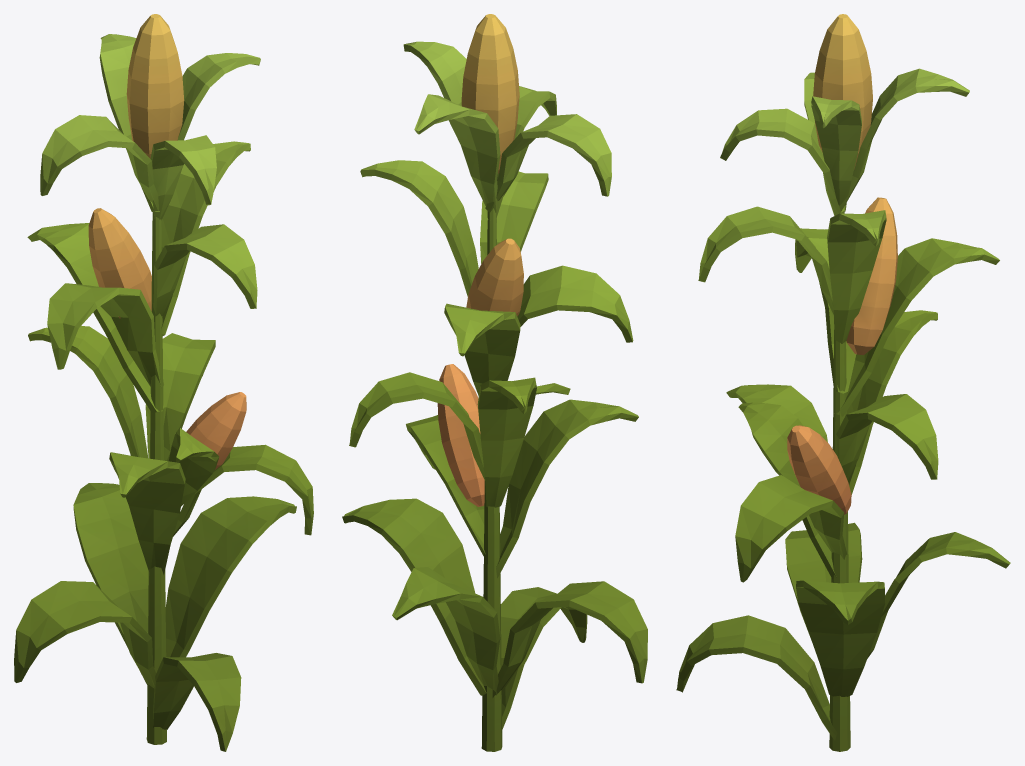
File: crop_corn_stage3.glb
3 renders of one model, left to right at view 1: azimuth 30°, elevation 25°; view 2: azimuth 150°, elevation 25°; view 3: azimuth 270°, elevation 25°, orthographic.
Parts seen in each view (by area): view 1: crop_corn_stage3; view 2: crop_corn_stage3; view 3: crop_corn_stage3.
Part boxes in pixels (left/top/right/bottom): crop_corn_stage3: left=14, top=14, right=313, bottom=751; crop_corn_stage3: left=342, top=14, right=647, bottom=751; crop_corn_stage3: left=676, top=14, right=1010, bottom=751.
Bounding box in the file's own units: 0.5633 × 1.35 × 0.5595.
Materials: 1 (1 with a texture image).
